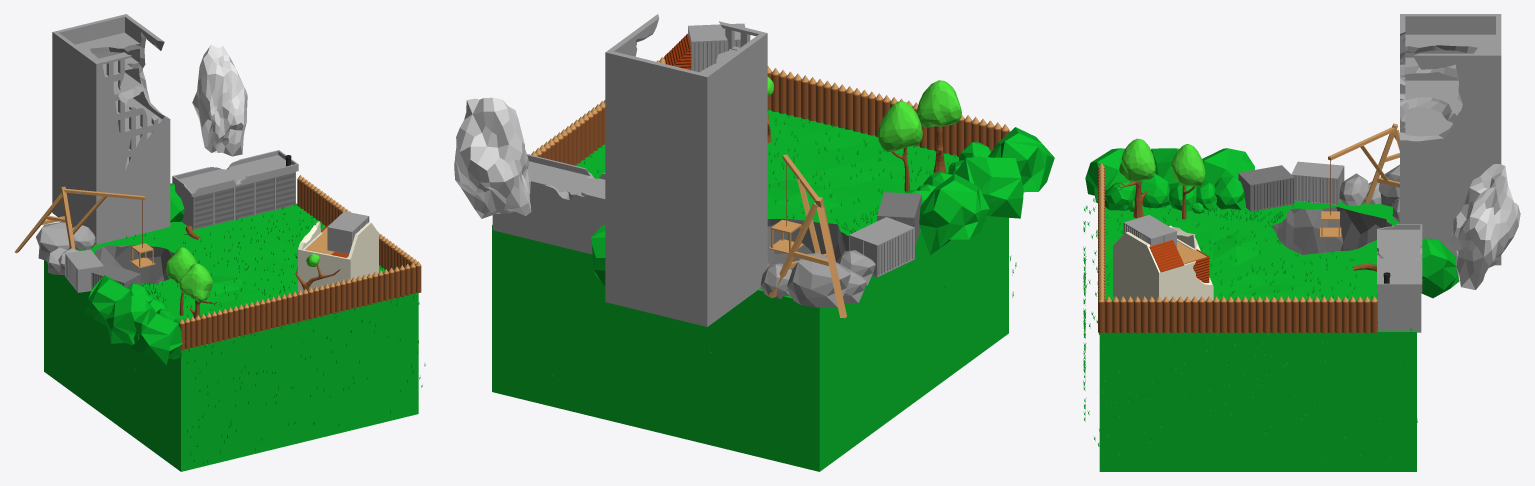
File: LandFall.fbx
3 renders of one model, left to right at view 1: azimuth 30°, elevation 25°; view 2: azimuth 150°, elevation 25°; view 3: azimuth 270°, elevation 25°, orthographic. The views are drawn at different scales.
Visible parts, largest first — view 1: Ground, Cube.009, Cylinder.002, Cube.001, Icosphere, House, Cylinder.001, Cube.011, Icosphere.011, Ground.001, Armature, Icosphere.010 (+8 smaller); view 2: Ground, Cube.009, Icosphere, Cylinder.002, Cube.001, Icosphere.009, Icosphere.010, Container1.002, Armature, Cylinder.001, Icosphere.015, Icosphere.011 (+9 smaller); view 3: Ground, Cube.009, Cylinder.001, Icosphere, Cube.011, Cube.001, House, Ground.001, Container1, Container1.002, Icosphere.012, Armature (+16 smaller).
Boxes of the visible parts, left/top/right/bottom form: Ground: left=44, top=203, right=418, bottom=471; Cube.009: left=52, top=14, right=170, bottom=244; Cylinder.002: left=179, top=262, right=415, bottom=350; Cube.001: left=172, top=150, right=298, bottom=230; Icosphere: left=192, top=44, right=247, bottom=156; House: left=298, top=221, right=378, bottom=292; Cylinder.001: left=297, top=175, right=421, bottom=292; Cube.011: left=75, top=32, right=162, bottom=169; Icosphere.011: left=130, top=308, right=185, bottom=365; Ground.001: left=95, top=245, right=174, bottom=284; Armature: left=14, top=186, right=144, bottom=253; Icosphere.010: left=106, top=293, right=155, bottom=345; Ground: left=492, top=110, right=1008, bottom=471; Cube.009: left=605, top=14, right=767, bottom=326; Icosphere: left=454, top=97, right=531, bottom=218; Cylinder.002: left=767, top=66, right=1009, bottom=156; Cube.001: left=492, top=154, right=605, bottom=254; Icosphere.009: left=919, top=174, right=989, bottom=255; Icosphere.010: left=955, top=157, right=1023, bottom=218; Container1.002: left=849, top=217, right=914, bottom=277; Armature: left=768, top=154, right=846, bottom=317; Cylinder.001: left=529, top=54, right=666, bottom=165; Icosphere.015: left=787, top=252, right=850, bottom=307; Icosphere.011: left=988, top=127, right=1054, bottom=192; Ground: left=1099, top=201, right=1416, bottom=471; Cube.009: left=1400, top=14, right=1501, bottom=265; Cylinder.001: left=1098, top=296, right=1377, bottom=333; Icosphere: left=1451, top=164, right=1520, bottom=289; Cube.011: left=1404, top=34, right=1495, bottom=136; Cube.001: left=1377, top=224, right=1422, bottom=332; House: left=1113, top=225, right=1213, bottom=300; Ground.001: left=1271, top=206, right=1391, bottom=254; Container1: left=1238, top=165, right=1294, bottom=211; Container1.002: left=1291, top=161, right=1344, bottom=204; Icosphere.012: left=1421, top=238, right=1459, bottom=298; Armature: left=1328, top=123, right=1399, bottom=204.
Bounding box in the file's own units: 2362 × 2427 × 2758.
